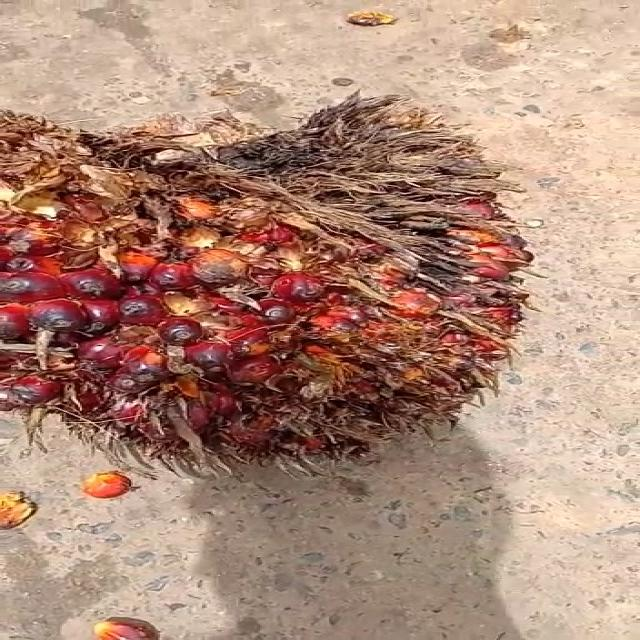palm oil: (0, 87, 544, 471)
